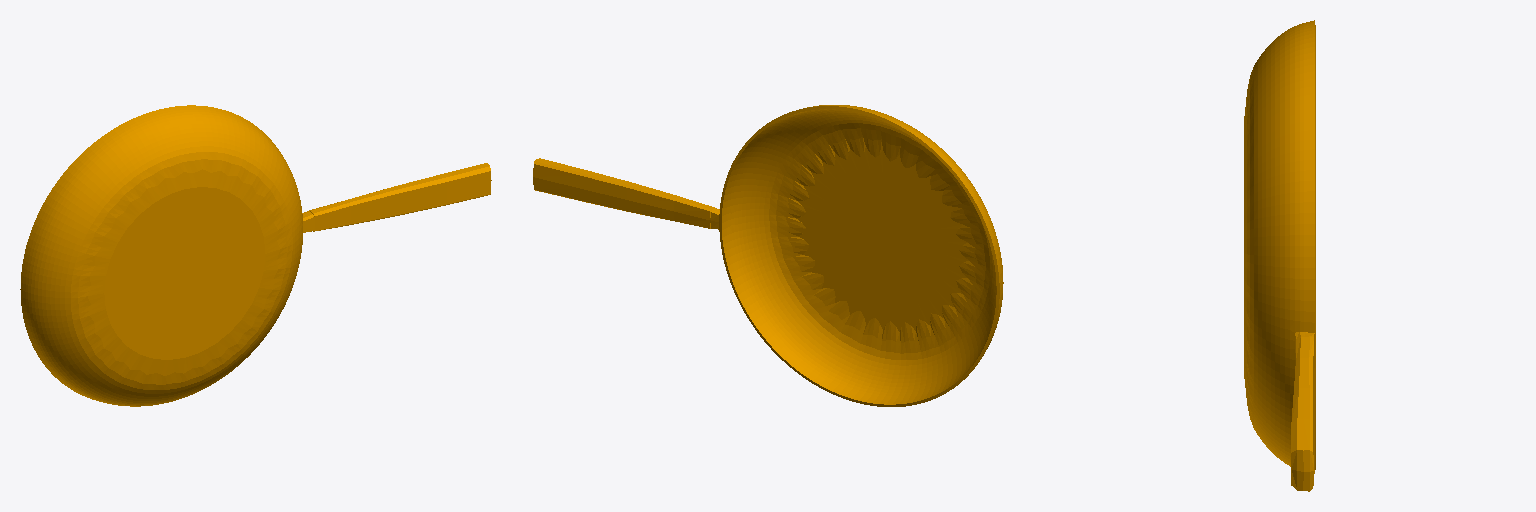
The robot description file, URDF, robot "bowl":
<?xml version="1.0"?>
<robot name="bowl">
  <link name="bowl">
    <visual>
      <origin xyz="0 0 0"/>
      <geometry>
        <mesh filename="package://test_obj_description/meshes/collision/frying_pan.obj" scale="0.1 0.1 0.1"/>
      </geometry>
    </visual>
    <collision>
      <origin xyz="0 0 0"/>
      <geometry>
        <mesh filename="package://test_obj_description/meshes/collision/frying_pan.obj" scale="0.1 0.1 0.1"/>
      </geometry>
    </collision>
    <inertial>
      <mass value="1"/>
      <inertia ixx="1.0" ixy="0.0" ixz="0.0" iyy="1.0" iyz="0.0" izz="1.0"/>
    </inertial>
  </link>
</robot>

--- Facts derived from the render (not from the file) ---
3 views of the same robot in one strip: view 1: azimuth 30°, elevation 25°; view 2: azimuth 150°, elevation 25°; view 3: azimuth 270°, elevation 25° (orthographic).
Model bowl with 1 links and 0 joints (none), rooted at bowl, posed every joint at zero.
Visible links, largest first — view 1: bowl; view 2: bowl; view 3: bowl.
Link boxes in pixels (x1,y1,x2,y2): bowl: (20, 105, 491, 406); bowl: (533, 105, 1003, 406); bowl: (1244, 20, 1315, 491).
Size in the robot's own frame: 0.3319 by 0.0311 by 0.1987 metres.
Meshes: 1 distinct files referenced, 1 mesh visuals loaded (1 OBJ).